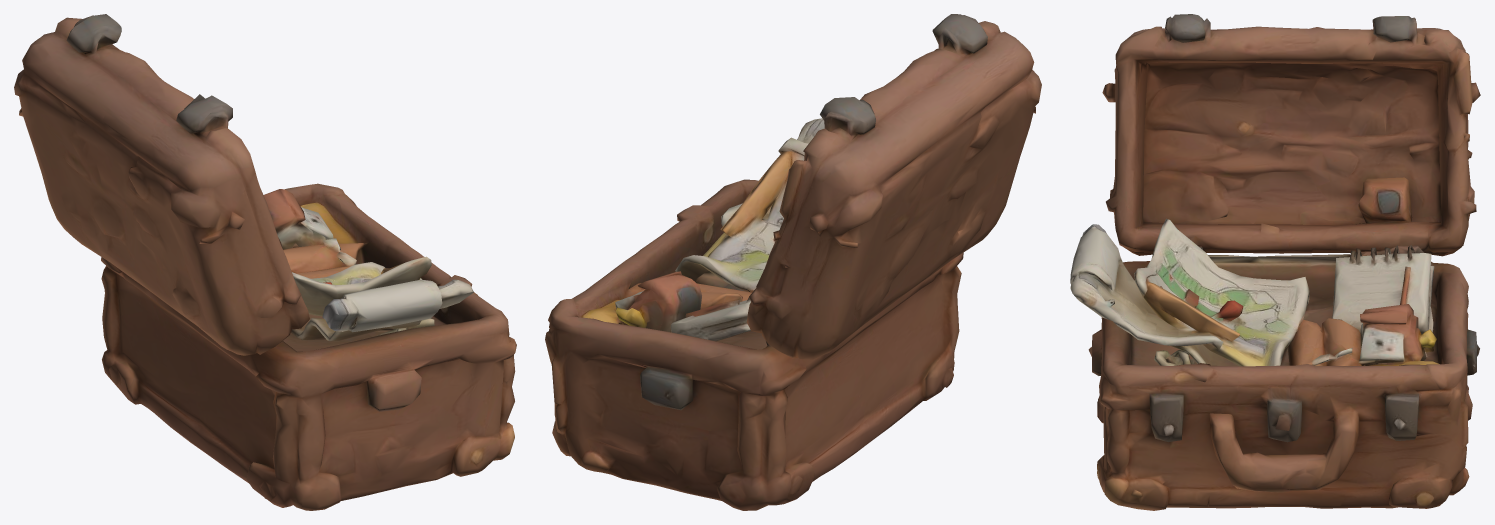
File: toolbox.glb
3 views of the same model, side by side, from view 1: azimuth 30°, elevation 25°; view 2: azimuth 150°, elevation 25°; view 3: azimuth 270°, elevation 25° (orthographic). The views are drawn at different scales.
Parts seen in each view (by area): view 1: tripo_node_dd33c11b-0a6c-4c96-91fe-f055983f0fce; view 2: tripo_node_dd33c11b-0a6c-4c96-91fe-f055983f0fce; view 3: tripo_node_dd33c11b-0a6c-4c96-91fe-f055983f0fce.
Part boxes in pixels (box(x1,y1,x2,y2)): tripo_node_dd33c11b-0a6c-4c96-91fe-f055983f0fce: box(14, 14, 516, 510); tripo_node_dd33c11b-0a6c-4c96-91fe-f055983f0fce: box(545, 14, 1041, 510); tripo_node_dd33c11b-0a6c-4c96-91fe-f055983f0fce: box(1070, 14, 1480, 510).
Size of the model in its own units: 0.9281 by 1 by 0.9869.
1 material, 1 textured.
